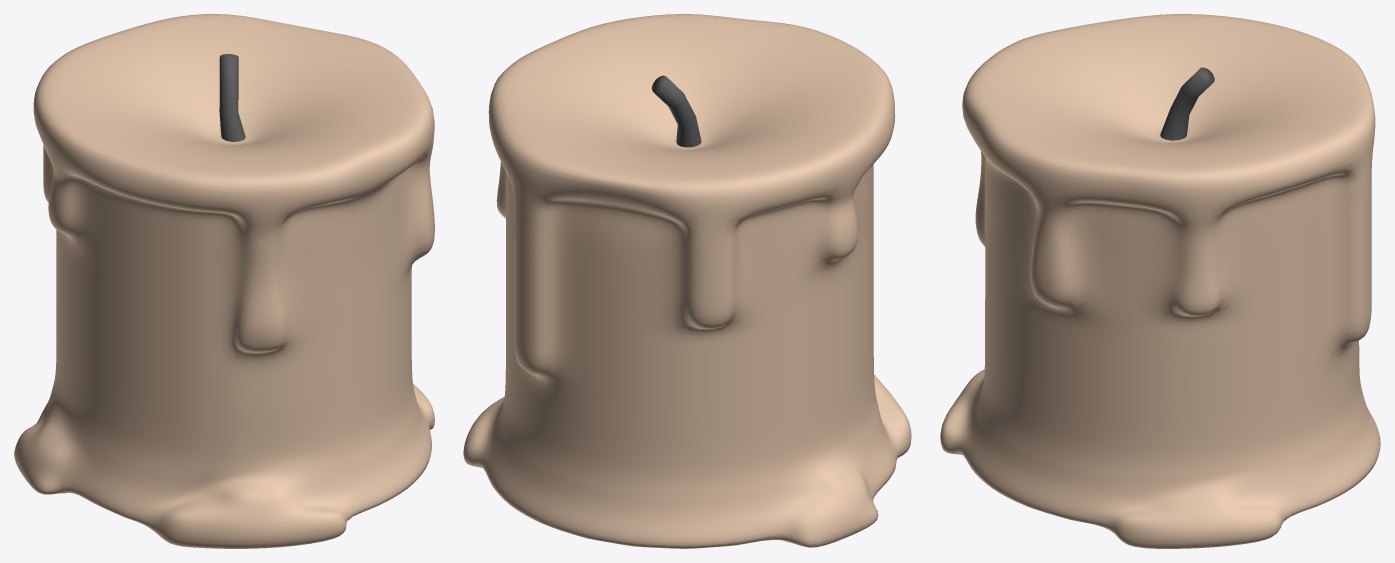
File: KısaMum.fbx
3 renders of one model, left to right at view 1: azimuth 30°, elevation 25°; view 2: azimuth 150°, elevation 25°; view 3: azimuth 270°, elevation 25°, orthographic. The views are drawn at different scales.
Visible parts, largest first — view 1: KısaMum1; view 2: KısaMum1; view 3: KısaMum1.
Boxes of the visible parts, x1,y1,x2,y2 form: KısaMum1: (14, 14, 434, 548); KısaMum1: (463, 14, 911, 548); KısaMum1: (940, 14, 1380, 548).
Size of the model in its own units: 16 by 15.97 by 16.
